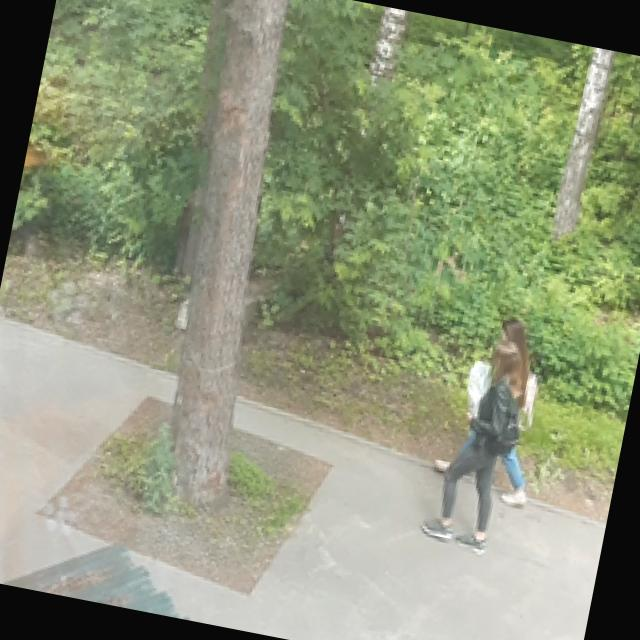person: (420, 322, 539, 555), (432, 308, 560, 511)
